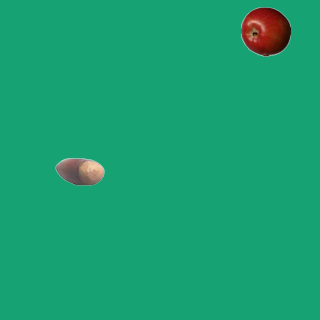Apple Braeburn: (240, 6, 290, 56)
Hazelnut: (54, 146, 104, 196)
